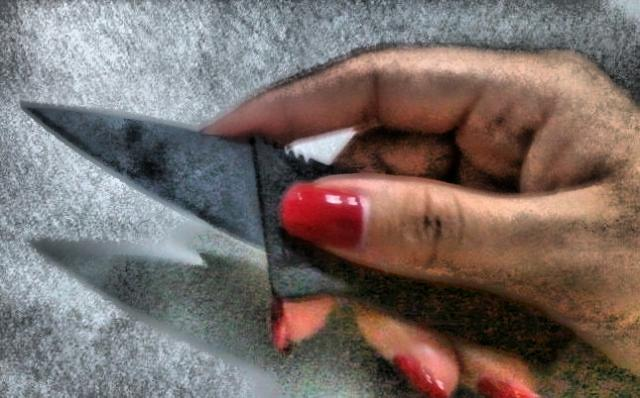knife: (12, 90, 382, 306)
